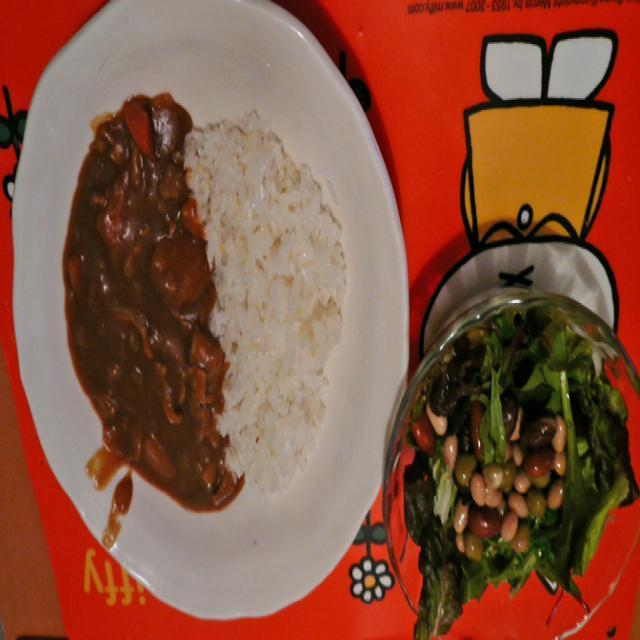Beef Curry: (74, 99, 217, 512)
Rice: (199, 129, 345, 481)
